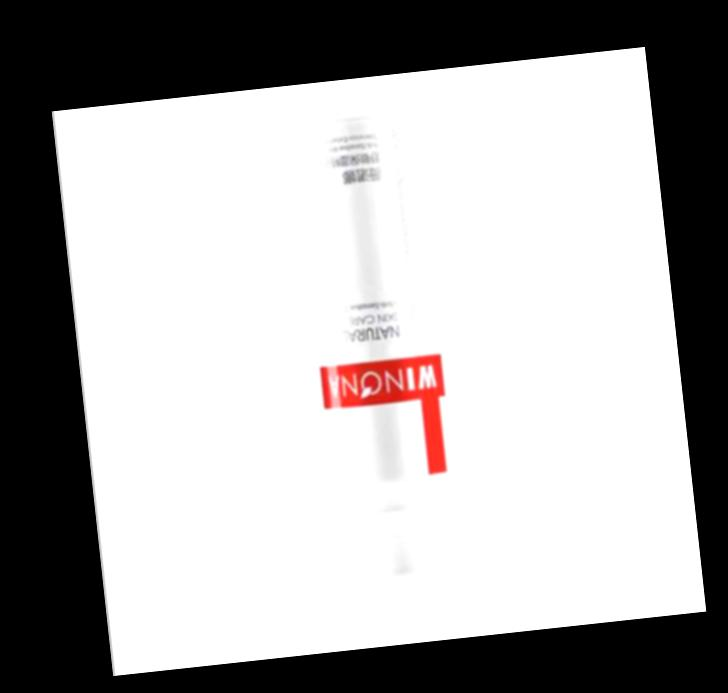cosmetic: (290, 108, 471, 622)
